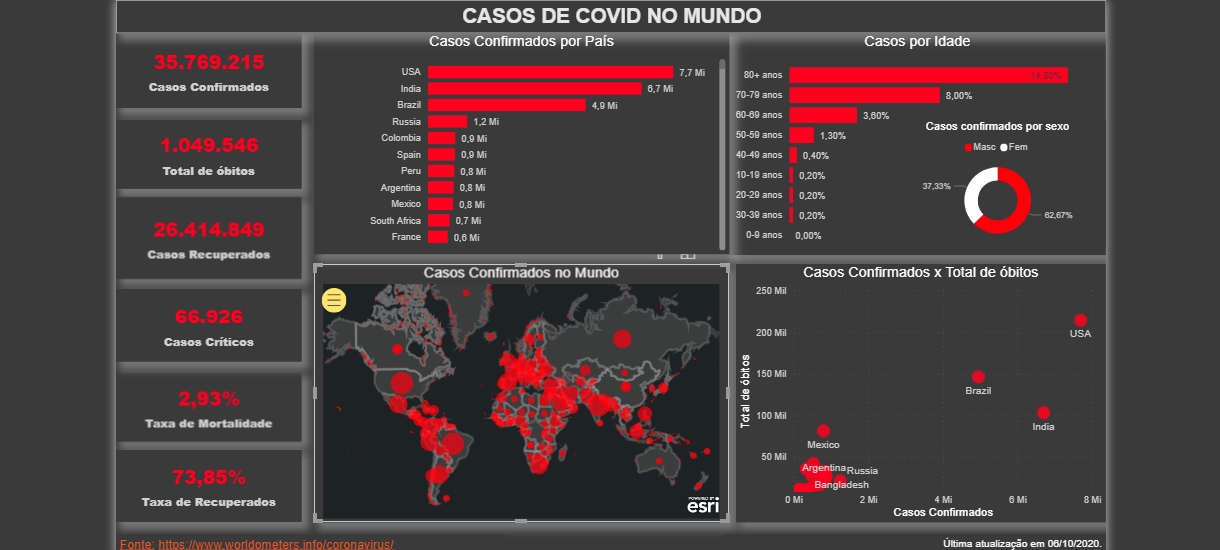

What the dashboard file says about the page in this screenshot:
{"tool":"powerbi","page":{"name":"Covid Dashboard","canvas":[1280,720],"ordinal":0},"visuals":[{"type":"esriVisual","title":"Casos Confirmados no Mundo","fields":{"Location":["Casos_por_País.Country,Other"],"Size":["Casos_por_País.Casos Confirmados"]},"box":[255.9,341.3,536.4,333.5],"z":0},{"type":"card","fields":{"Values":["Casos_por_País.Confirmados"]},"box":[0,42.7,240.4,96.9],"z":1000},{"type":"card","fields":{"Values":["Casos_por_País.Total de óbitos"]},"box":[0,155.1,240.4,89.2],"z":2000},{"type":"card","fields":{"Values":["Casos_por_País.Taxa de Mortalidade"]},"box":[0,482.2,240.4,89.2],"z":3000},{"type":"card","fields":{"Values":["Casos_por_País.Casos Recuperados"]},"box":[0,254.6,240.4,106],"z":4000},{"type":"card","fields":{"Values":["Casos_por_País.Taxa de Recuperados"]},"box":[0,581.7,240.4,93.1],"z":5000},{"type":"card","fields":{"Values":["Casos_por_País.Casos Críticos"]},"box":[0,373.6,240.4,94.4],"z":6000},{"type":"clusteredBarChart","title":"Casos por Idade","fields":{"Category":["Idade.AGE"],"Y":["Sum(Idade.DEATH RATEall cases)"]},"box":[792.4,42.7,487.3,287],"z":7000},{"type":"clusteredBarChart","title":"Casos Confirmados por País","fields":{"Category":["Casos_por_País.Country,Other"],"Y":["Casos_por_País.Casos Confirmados"]},"box":[256,42.7,536.8,286.3],"z":8000},{"type":"donutChart","title":"Casos confirmados por sexo","fields":{"Category":["Sexo.SEX"],"Y":["Sum(Sexo.DEATH RATEconfirmed cases)"]},"box":[999.2,155.1,280.5,164.2],"z":9000},{"type":"textbox","box":[0,0,1279.5,42.6],"z":10000},{"type":"scatterChart","title":"Casos Confirmados x Total de óbitos","fields":{"X":["Casos_por_País.Casos Confirmados"],"Y":["Casos_por_País.Total de óbitos"],"Category":["Casos_por_País.Country,Other","Casos_por_País.TotalCases"]},"box":[801.4,341.3,478.3,333.5],"z":11000},{"type":"textbox","box":[0,690.3,502.8,29.7],"z":12000},{"type":"textbox","box":[787.2,690.3,492.5,29.7],"z":13000}]}

Visuals, with their boxes in screenshot pixels (x1, y1, x2, y2):
"Casos Confirmados no Mundo" esriVisual: {"left": 308, "top": 263, "right": 726, "bottom": 524}
card - Casos_por_País.Confirmados: {"left": 108, "top": 30, "right": 296, "bottom": 106}
card - Casos_por_País.Total de óbitos: {"left": 108, "top": 118, "right": 296, "bottom": 187}
card - Casos_por_País.Taxa de Mortalidade: {"left": 108, "top": 373, "right": 296, "bottom": 443}
card - Casos_por_País.Casos Recuperados: {"left": 108, "top": 196, "right": 296, "bottom": 278}
card - Casos_por_País.Taxa de Recuperados: {"left": 108, "top": 451, "right": 296, "bottom": 524}
card - Casos_por_País.Casos Críticos: {"left": 108, "top": 288, "right": 296, "bottom": 362}
"Casos por Idade" clusteredBarChart: {"left": 726, "top": 30, "right": 1107, "bottom": 254}
"Casos Confirmados por País" clusteredBarChart: {"left": 308, "top": 30, "right": 727, "bottom": 254}
"Casos confirmados por sexo" donutChart: {"left": 888, "top": 118, "right": 1107, "bottom": 246}
textbox: {"left": 108, "top": 0, "right": 1107, "bottom": 30}
"Casos Confirmados x Total de óbitos" scatterChart: {"left": 734, "top": 263, "right": 1107, "bottom": 524}
textbox: {"left": 108, "top": 536, "right": 500, "bottom": 549}
textbox: {"left": 722, "top": 536, "right": 1107, "bottom": 549}
